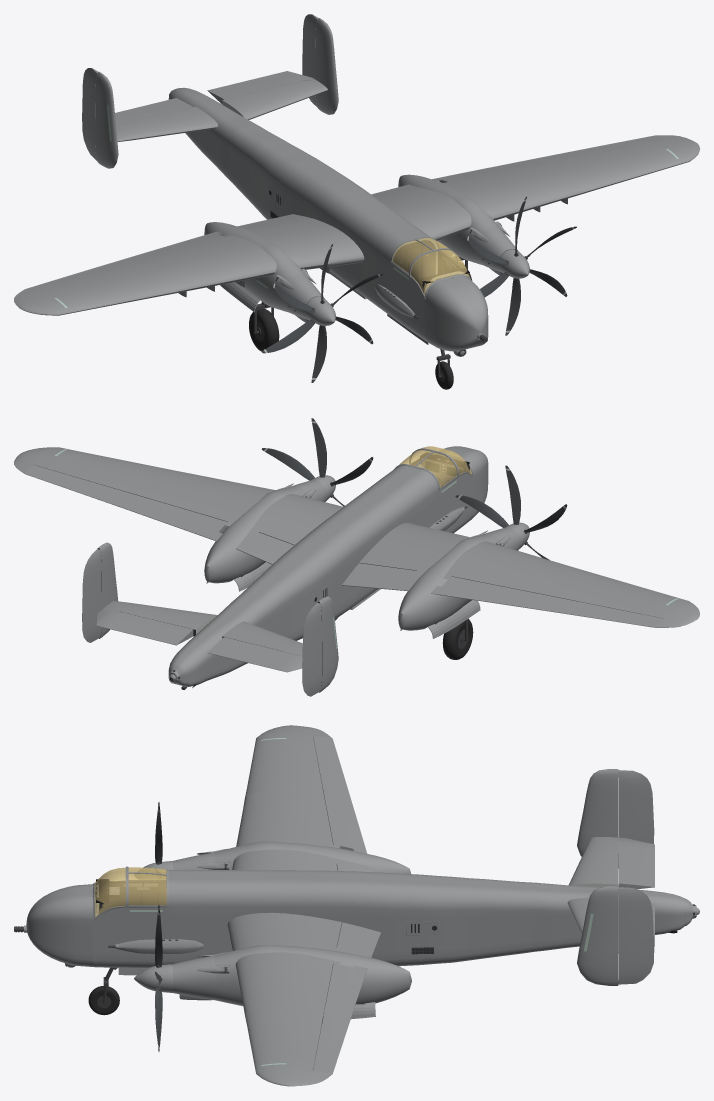
3 renders of one model, top to bottom at view 1: azimuth 30°, elevation 25°; view 2: azimuth 150°, elevation 25°; view 3: azimuth 270°, elevation 25°, orthographic. The views are drawn at different scales.
Parts seen in each view (by area): view 1: fus_rear, wing_tip_R, wing_outer_R, fus_center, wing_outer_L, wing_tip_L, fus_nose, wing_inner_R, wing_inner_L, fus_tail, fus_forward, nacelle_R (+22 smaller); view 2: fus_rear, fus_center, wing_tip_R, wing_outer_R, wing_outer_L, wing_tip_L, fus_tail, wing_inner_R, nacelle_R, nacelle_L, wing_inner_L, fus_forward (+25 smaller); view 3: fus_rear, fus_center, wing_tip_L, wing_outer_L, wing_outer_R, fus_tail, fus_forward, fus_nose, wing_tip_R, nacelle_L, fus_cockpit, wing_inner_L (+20 smaller).
Part boxes in pixels (x1,y1,x2,y2): fus_rear: [228, 125, 345, 219]; wing_tip_R: [14, 262, 178, 315]; wing_outer_R: [143, 231, 276, 293]; fus_center: [304, 175, 404, 299]; wing_outer_L: [432, 164, 584, 220]; wing_tip_L: [544, 135, 699, 194]; fus_nose: [424, 275, 488, 351]; wing_inner_R: [237, 218, 364, 269]; wing_inner_L: [380, 184, 471, 240]; fus_tail: [168, 87, 259, 181]; fus_forward: [363, 217, 430, 315]; nacelle_R: [204, 222, 306, 312]; fus_rear: [233, 530, 353, 640]; fus_center: [310, 485, 411, 609]; wing_tip_R: [544, 569, 699, 627]; wing_outer_R: [431, 541, 579, 594]; wing_outer_L: [143, 470, 275, 541]; wing_tip_L: [14, 447, 172, 496]; fus_tail: [168, 599, 265, 687]; wing_inner_R: [359, 522, 470, 590]; nacelle_R: [398, 534, 499, 630]; nacelle_L: [204, 486, 305, 583]; wing_inner_L: [236, 494, 342, 551]; fus_forward: [371, 467, 436, 527]; fus_rear: [354, 871, 536, 966]; fus_center: [227, 870, 358, 951]; wing_tip_L: [245, 1006, 332, 1086]; wing_outer_L: [235, 952, 367, 1014]; wing_outer_R: [236, 791, 367, 853]; fus_tail: [532, 882, 699, 951]; fus_forward: [172, 870, 229, 963]; fus_nose: [26, 884, 96, 966]; wing_tip_R: [245, 725, 332, 797]; nacelle_L: [215, 945, 411, 1005]; fus_cockpit: [91, 870, 176, 968]; wing_inner_L: [227, 912, 371, 957].
Size of the model in its own units: 20.6 by 4.98 by 16.57.
